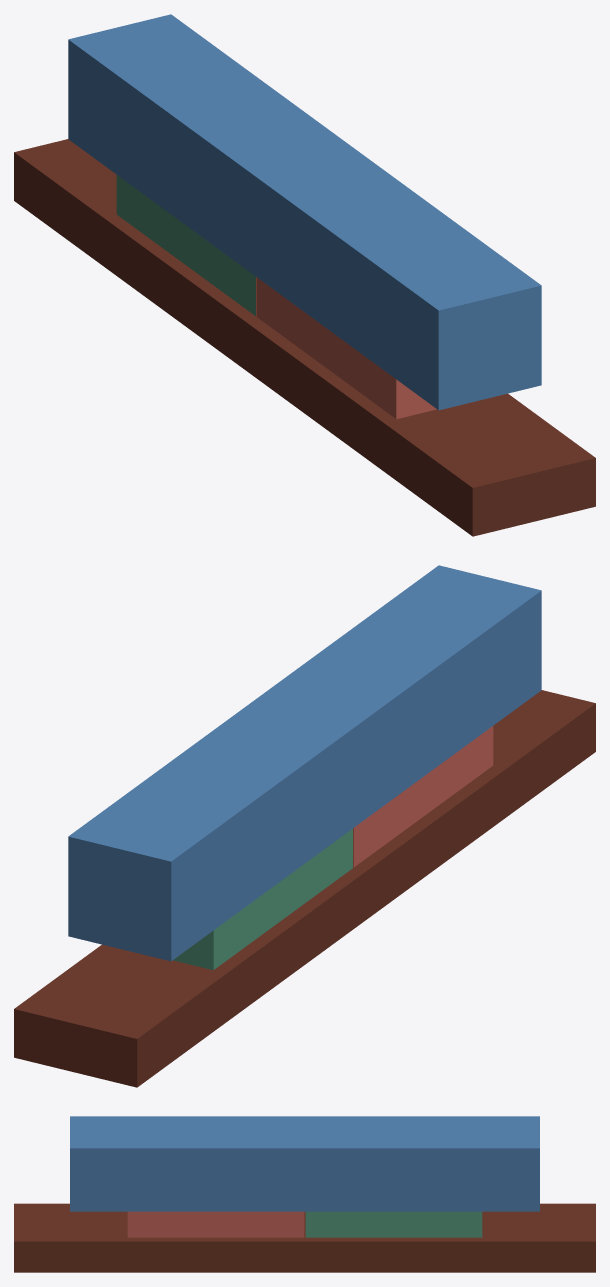
The model's file is wagon_far.fbx.
The picture shows the model from 3 angles, top to bottom: view 1: azimuth 30°, elevation 25°; view 2: azimuth 150°, elevation 25°; view 3: azimuth 270°, elevation 25°; orthographic projection. The views are drawn at different scales.
Parts seen in each view (by area): view 1: 22_wagon_far; view 2: 22_wagon_far; view 3: 22_wagon_far.
Boxes of the visible parts, left/top/right/bottom form: 22_wagon_far: left=14, top=14, right=595, bottom=536; 22_wagon_far: left=14, top=565, right=595, bottom=1087; 22_wagon_far: left=14, top=1116, right=595, bottom=1272.
Size of the model in its own units: 3.1 by 4.6 by 20.
